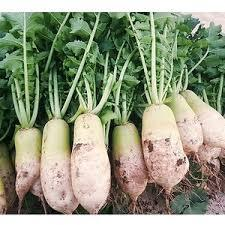radish: (49, 36, 67, 74), (24, 39, 40, 75), (14, 41, 28, 75), (39, 42, 53, 75), (58, 31, 72, 54), (5, 44, 15, 75)
